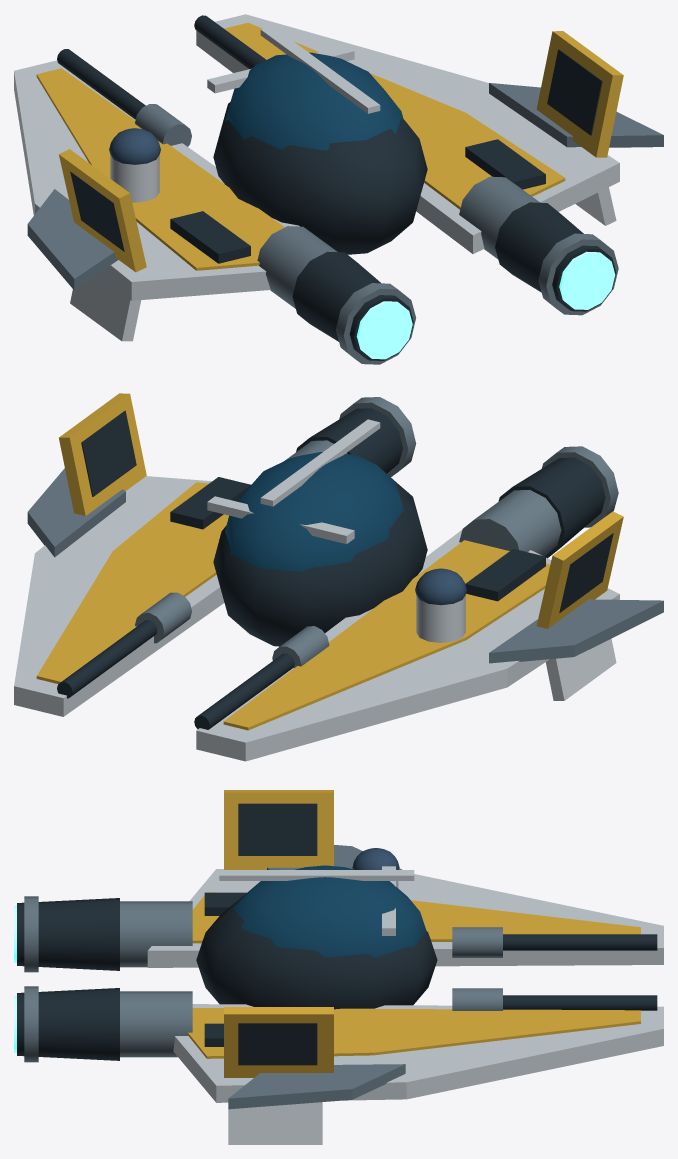
Rendered from eta2.glb.
The picture shows the model from 3 angles, top to bottom: view 1: azimuth 30°, elevation 25°; view 2: azimuth 150°, elevation 25°; view 3: azimuth 270°, elevation 25°; orthographic projection. The views are drawn at different scales.
Visible parts, largest first — view 1: eta2-material-0, eta2-material-2, eta2-material-3, eta2-material-4, eta2-material-1, eta2-material-5, eta2-material-6; view 2: eta2-material-2, eta2-material-3, eta2-material-0, eta2-material-4, eta2-material-1, eta2-material-6; view 3: eta2-material-0, eta2-material-2, eta2-material-3, eta2-material-4, eta2-material-1, eta2-material-6.
Part boxes in pixels (x1,y1,x2,y2): eta2-material-0: (57, 15, 616, 360); eta2-material-2: (14, 14, 619, 341); eta2-material-3: (36, 22, 623, 272); eta2-material-4: (27, 83, 663, 364); eta2-material-1: (225, 52, 403, 150); eta2-material-5: (356, 251, 615, 359); eta2-material-6: (109, 128, 160, 164); eta2-material-2: (14, 419, 619, 761); eta2-material-3: (36, 393, 623, 730); eta2-material-0: (57, 408, 613, 729); eta2-material-4: (27, 397, 663, 667); eta2-material-1: (225, 452, 403, 571); eta2-material-6: (415, 568, 466, 605); eta2-material-0: (17, 803, 657, 1065); eta2-material-2: (147, 866, 663, 1144); eta2-material-3: (188, 790, 640, 1077); eta2-material-4: (24, 845, 502, 1109); eta2-material-1: (233, 865, 426, 957); eta2-material-6: (352, 848, 399, 869).
Bounding box in the file's own units: 5.22 × 1.53 × 5.47.
